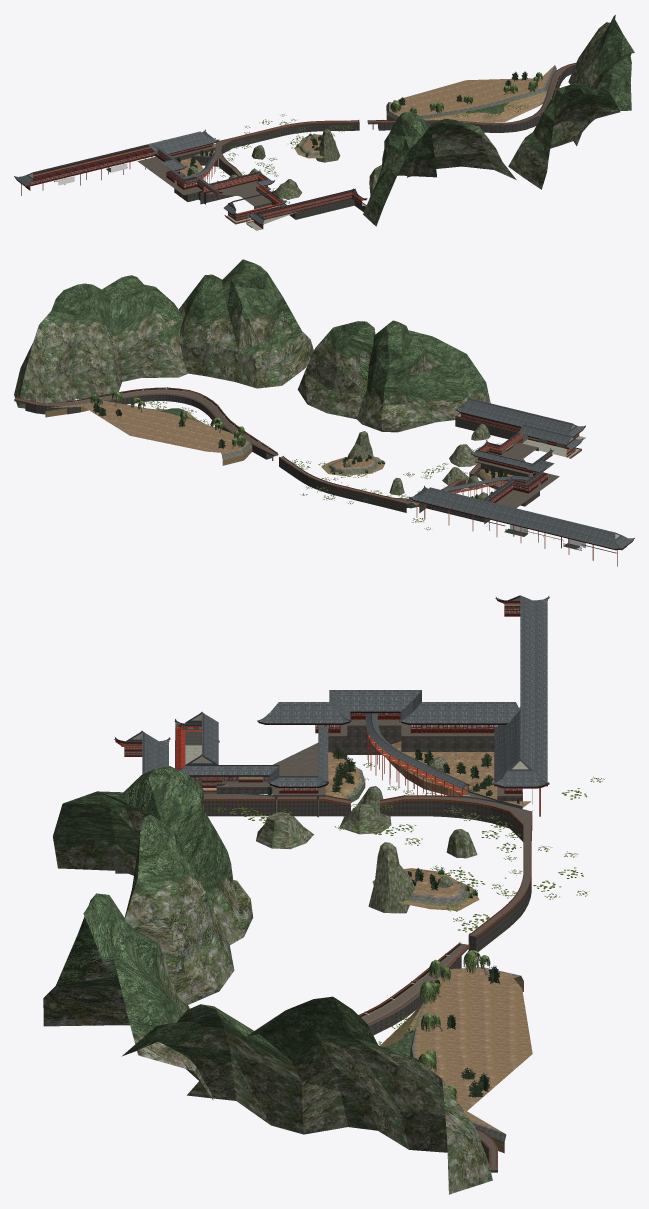
File: dragonRoad fixed fbx.fbx_Collection.fbx_Collection_2.fbx
The picture shows the model from 3 angles, top to bottom: view 1: azimuth 30°, elevation 25°; view 2: azimuth 150°, elevation 25°; view 3: azimuth 270°, elevation 25°; orthographic projection. The views are drawn at different scales.
Visible parts, largest first — view 1: stg041_og_A22_Mesh_0001, stg041_o_A17_Mesh_0022, stg041_o_A21_Mesh_0001, stg041_og_A22_Mesh_0000, stg041_og_A23_Mesh_0001, stg041_o_A10_Mesh_0010, stg041_og_A17_Mesh_0001, stg041_o_A10_Mesh_0005, stg041_og_A22_Mesh_0002, stg041_o_A10_Mesh_0011, stg041_og_A17_Mesh_0002, stg041_o_A15_Mesh_0010 (+7 smaller); view 2: stg041_o_A17_Mesh_0022, stg041_o_A21_Mesh_0001, stg041_og_A22_Mesh_0001, stg041_o_A10_Mesh_0010, stg041_og_A22_Mesh_0000, stg041_og_A23_Mesh_0001, stg041_og_A17_Mesh_0001, stg041_og_A22_Mesh_0002, stg041_og_A17_Mesh_0002, stg041_o_A10_Mesh_0005, stg041_o_A15_Mesh_0010, stg041_o_A10_Mesh_0009 (+5 smaller); view 3: stg041_o_A17_Mesh_0022, stg041_og_A22_Mesh_0001, stg041_o_A21_Mesh_0001, stg041_o_A10_Mesh_0010, stg041_og_A22_Mesh_0000, stg041_og_A23_Mesh_0001, stg041_og_A17_Mesh_0001, stg041_og_A22_Mesh_0002, stg041_o_A15_Mesh_0010, stg041_o_A17_Mesh_0025, stg041_o_A10_Mesh_0005, stg041_og_A17_Mesh_0002 (+5 smaller).
Part boxes in pixels (x1,y1,x2,y2): stg041_og_A22_Mesh_0001: [370, 15, 634, 206]; stg041_o_A17_Mesh_0022: [188, 31, 596, 199]; stg041_o_A21_Mesh_0001: [363, 22, 620, 226]; stg041_og_A22_Mesh_0000: [180, 78, 545, 179]; stg041_og_A23_Mesh_0001: [174, 65, 574, 219]; stg041_o_A10_Mesh_0010: [15, 131, 362, 223]; stg041_og_A17_Mesh_0001: [137, 66, 568, 206]; stg041_o_A10_Mesh_0005: [26, 144, 361, 228]; stg041_og_A22_Mesh_0002: [294, 65, 556, 158]; stg041_o_A10_Mesh_0011: [28, 147, 362, 215]; stg041_og_A17_Mesh_0002: [191, 63, 575, 229]; stg041_o_A15_Mesh_0010: [164, 104, 528, 203]; stg041_o_A17_Mesh_0022: [14, 331, 490, 499]; stg041_o_A21_Mesh_0001: [33, 293, 490, 423]; stg041_og_A22_Mesh_0001: [51, 259, 485, 420]; stg041_o_A10_Mesh_0010: [411, 399, 633, 548]; stg041_og_A22_Mesh_0000: [82, 403, 526, 505]; stg041_og_A23_Mesh_0001: [25, 394, 539, 524]; stg041_og_A17_Mesh_0001: [39, 390, 559, 508]; stg041_og_A22_Mesh_0002: [45, 400, 504, 489]; stg041_og_A17_Mesh_0002: [15, 388, 585, 503]; stg041_o_A10_Mesh_0005: [460, 413, 626, 550]; stg041_o_A15_Mesh_0010: [145, 399, 501, 530]; stg041_o_A10_Mesh_0009: [409, 398, 634, 549]; stg041_o_A17_Mesh_0022: [43, 757, 492, 1194]; stg041_og_A22_Mesh_0001: [53, 766, 414, 1060]; stg041_o_A21_Mesh_0001: [53, 804, 441, 1081]; stg041_o_A10_Mesh_0010: [121, 595, 547, 788]; stg041_og_A22_Mesh_0000: [325, 741, 532, 1110]; stg041_og_A23_Mesh_0001: [115, 727, 532, 1172]; stg041_og_A17_Mesh_0001: [203, 719, 530, 1169]; stg041_og_A22_Mesh_0002: [333, 760, 523, 1153]; stg041_o_A15_Mesh_0010: [213, 762, 604, 1046]; stg041_o_A17_Mesh_0025: [267, 747, 519, 1097]; stg041_o_A10_Mesh_0005: [124, 608, 522, 793]; stg041_og_A17_Mesh_0002: [175, 743, 532, 1167].
Bounding box in the file's own units: 106550 × 15170 × 45206.
Materials: 40 (40 with a texture image).
